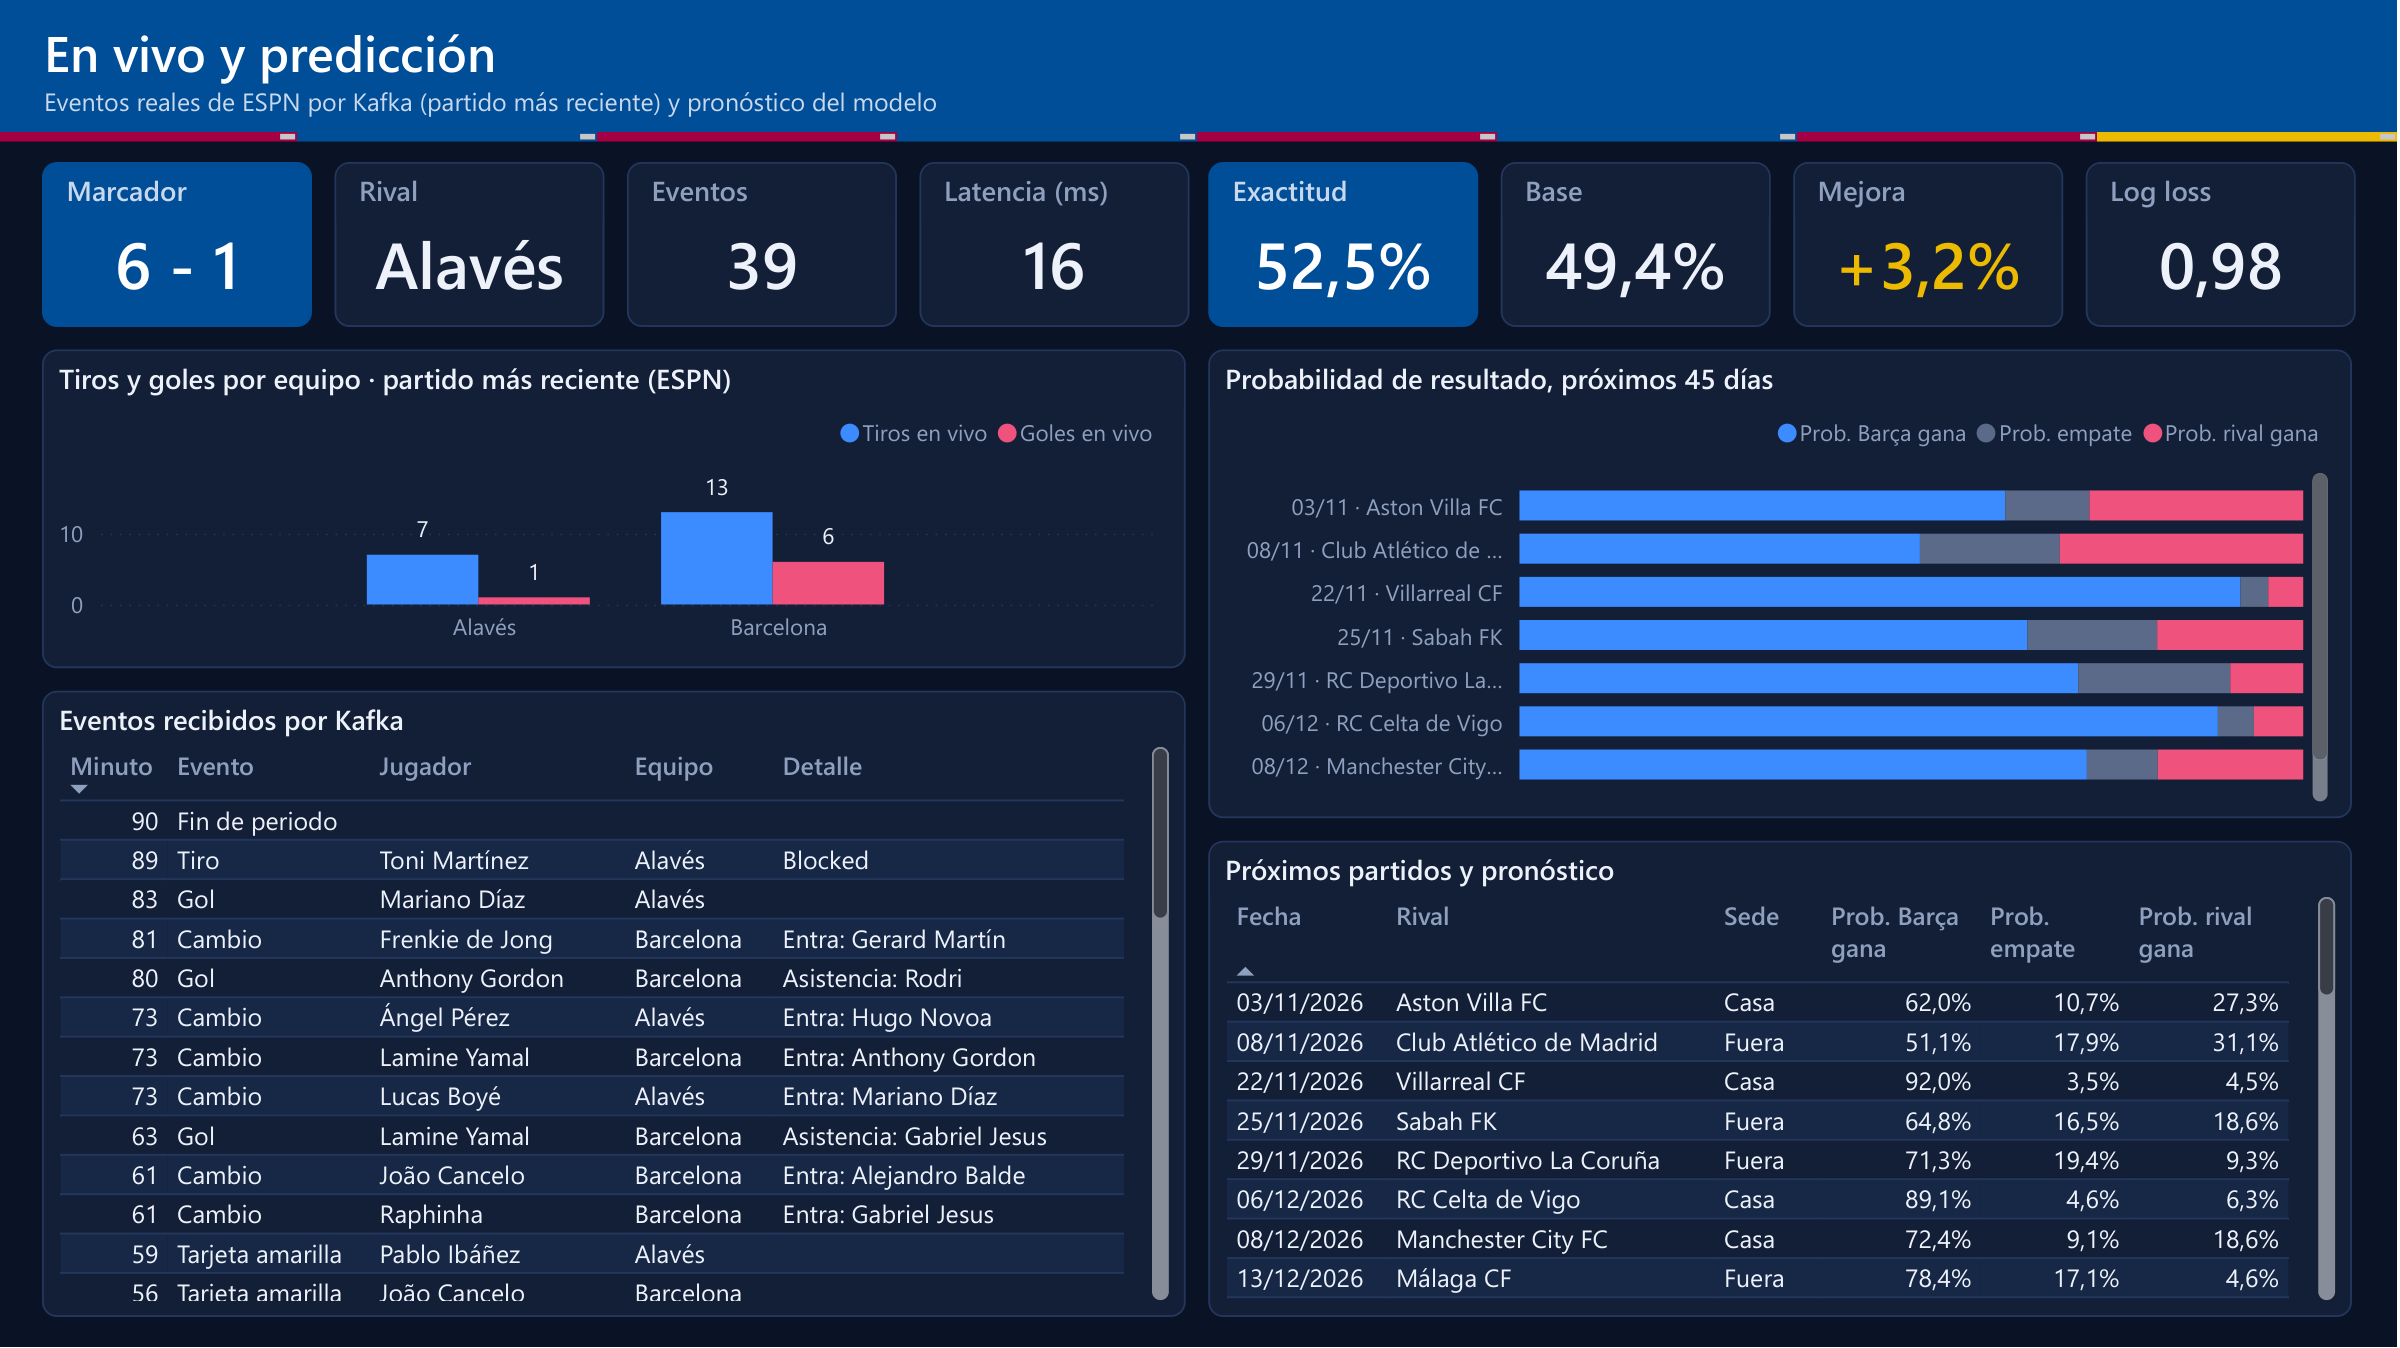

The page's visual inventory and layout, read from the dashboard file:
{"tool":"powerbi","page":{"name":"En vivo y predicción","canvas":[1280,720],"ordinal":3},"visuals":[{"type":"textbox","box":[0,0,1280,72],"z":0},{"type":"textbox","box":[0,72,160,5],"z":10},{"type":"textbox","box":[160,72,160,5],"z":20},{"type":"textbox","box":[320,72,160,5],"z":30},{"type":"textbox","box":[480,72,160,5],"z":40},{"type":"textbox","box":[640,72,160,5],"z":50},{"type":"textbox","box":[800,72,160,5],"z":60},{"type":"textbox","box":[960,72,160,5],"z":70},{"type":"textbox","box":[1120,72,160,5],"z":80},{"type":"card","title":"Marcador","fields":{"Values":["Medidas.Marcador en vivo"]},"box":[24,88,144,88],"z":90},{"type":"card","title":"Rival","fields":{"Values":["Medidas.Rival en vivo"]},"box":[180,88,144,88],"z":100},{"type":"card","title":"Eventos","fields":{"Values":["Medidas.Eventos procesados"]},"box":[336,88,144,88],"z":110},{"type":"card","title":"Latencia (ms)","fields":{"Values":["Medidas.Latencia mediana (ms)"]},"box":[492,88,144,88],"z":120},{"type":"clusteredColumnChart","title":"Tiros y goles por equipo · partido más reciente (ESPN)","fields":{"Category":["warehouse vw_live_current_score.Equipo"],"Y":["Medidas.Tiros en vivo","Medidas.Goles en vivo"]},"box":[24,188,610,170],"z":130},{"type":"tableEx","title":"Eventos recibidos por Kafka","fields":{"Values":["warehouse vw_live_events_current.Minuto","warehouse vw_live_events_current.Evento","warehouse vw_live_events_current.Jugador","warehouse vw_live_events_current.Equipo","warehouse vw_live_events_current.Detalle"]},"box":[24,370,610,334],"z":140},{"type":"card","title":"Exactitud","fields":{"Values":["Medidas.Exactitud del modelo"]},"box":[646,88,144,88],"z":150},{"type":"card","title":"Base","fields":{"Values":["Medidas.Exactitud base"]},"box":[802,88,144,88],"z":160},{"type":"card","title":"Mejora","fields":{"Values":["Medidas.Mejora vs base"]},"box":[958,88,144,88],"z":170},{"type":"card","title":"Log loss","fields":{"Values":["Medidas.Log loss"]},"box":[1114,88,144,88],"z":180},{"type":"hundredPercentStackedBarChart","title":"Probabilidad de resultado, próximos 45 días","fields":{"Category":["warehouse vw_barca_fixtures.Partido corto"],"Y":["Medidas.Prob. Barça gana","Medidas.Prob. empate","Medidas.Prob. rival gana"]},"box":[646,188,610,250],"z":190},{"type":"tableEx","title":"Próximos partidos y pronóstico","fields":{"Values":["warehouse vw_barca_fixtures.Fecha","warehouse vw_barca_fixtures.Rival","warehouse vw_barca_fixtures.Sede","Medidas.Prob. Barça gana","Medidas.Prob. empate","Medidas.Prob. rival gana"]},"box":[646,450,610,254],"z":200}]}

Visuals, with their boxes in screenshot pixels (x1, y1, x2, y2), scaled from the page's 1280x720 canvas onto the 2400x1348 screenshot:
textbox: [left=0, top=0, right=2399, bottom=135]
textbox: [left=0, top=135, right=300, bottom=144]
textbox: [left=300, top=135, right=600, bottom=144]
textbox: [left=600, top=135, right=900, bottom=144]
textbox: [left=900, top=135, right=1200, bottom=144]
textbox: [left=1200, top=135, right=1500, bottom=144]
textbox: [left=1500, top=135, right=1800, bottom=144]
textbox: [left=1800, top=135, right=2100, bottom=144]
textbox: [left=2100, top=135, right=2399, bottom=144]
"Marcador" card: [left=45, top=165, right=315, bottom=330]
"Rival" card: [left=338, top=165, right=608, bottom=330]
"Eventos" card: [left=630, top=165, right=900, bottom=330]
"Latencia (ms)" card: [left=922, top=165, right=1192, bottom=330]
"Tiros y goles por equipo · partido más reciente (ESPN)" clusteredColumnChart: [left=45, top=352, right=1189, bottom=670]
"Eventos recibidos por Kafka" tableEx: [left=45, top=693, right=1189, bottom=1318]
"Exactitud" card: [left=1211, top=165, right=1481, bottom=330]
"Base" card: [left=1504, top=165, right=1774, bottom=330]
"Mejora" card: [left=1796, top=165, right=2066, bottom=330]
"Log loss" card: [left=2089, top=165, right=2359, bottom=330]
"Probabilidad de resultado, próximos 45 días" hundredPercentStackedBarChart: [left=1211, top=352, right=2355, bottom=820]
"Próximos partidos y pronóstico" tableEx: [left=1211, top=842, right=2355, bottom=1318]
